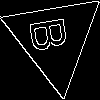B: (29, 14, 77, 54)
